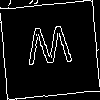W: (24, 25, 74, 75)
